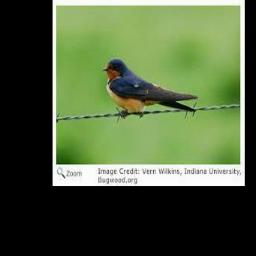Swallow: (102, 58, 198, 113)
